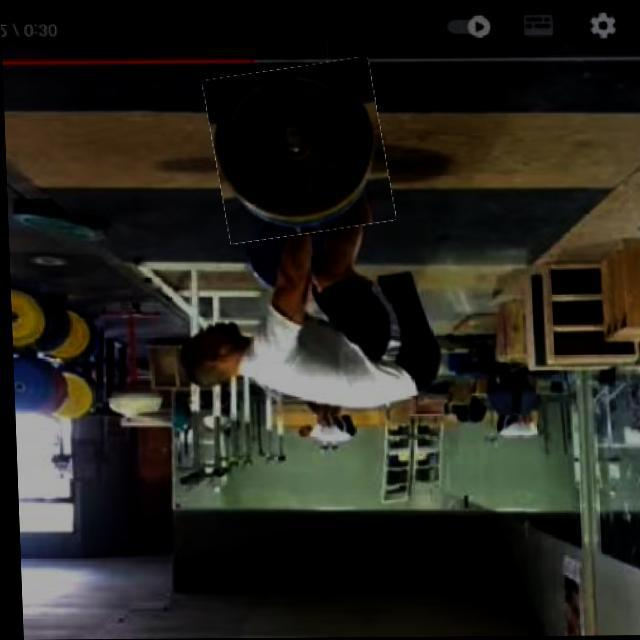barbell: (207, 64, 391, 240)
